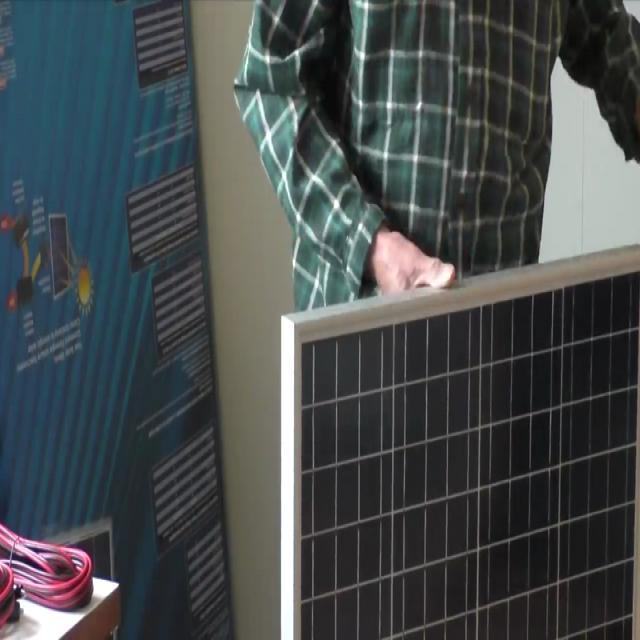Normal Solar Panel: (293, 247, 640, 640)
